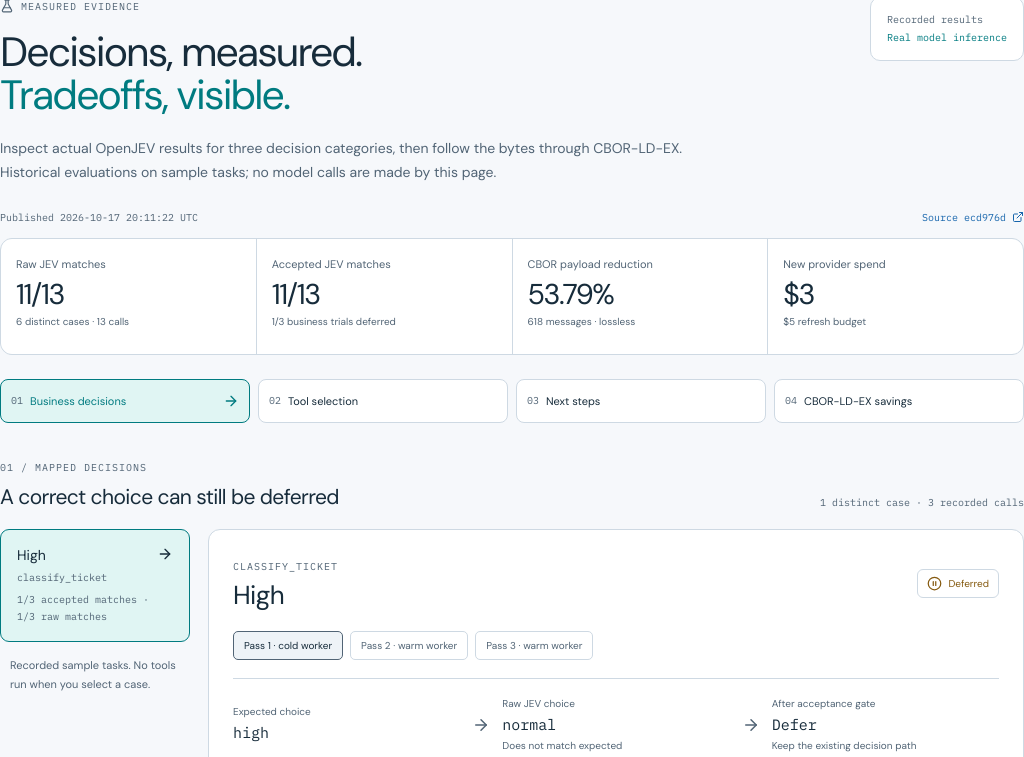
Scenario: measured benchmark workspace › derives narration from a refreshed valid report with changed outcomes and measurements
Expected: the navigation bar named "Benchmark categories" is shown, [0,379,1023,423]
Expected: the text "6 distinct cases · 13 calls" is shown, [16,315,129,328]
Click the button "Pass 2 · warm worker".
click(409, 646)  # box [350,631,468,660]
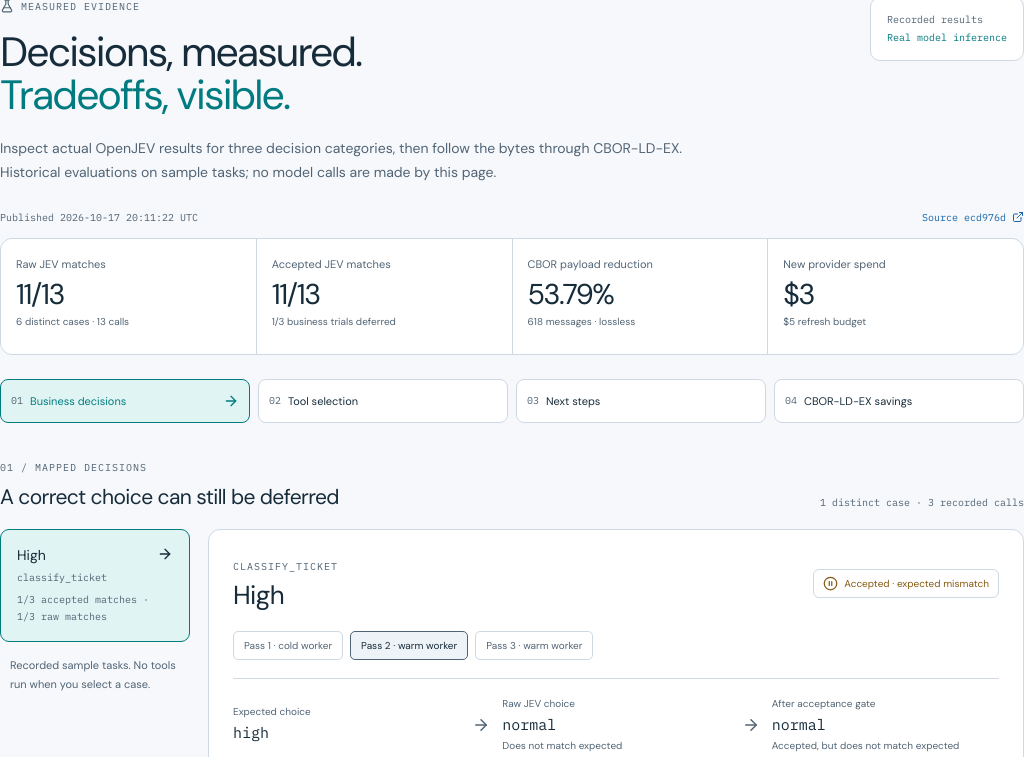
Expected: the text "1/3 accepted matches · 1/3 raw matches" is shown, [17,591,151,625]
Expected: the text "Accepted · expected mismatch" is shown, [813,569,999,598]
Click the button "04 CBOR-LD-EX savings".
click(899, 401)  # box [774,379,1023,423]
(page scrolled)
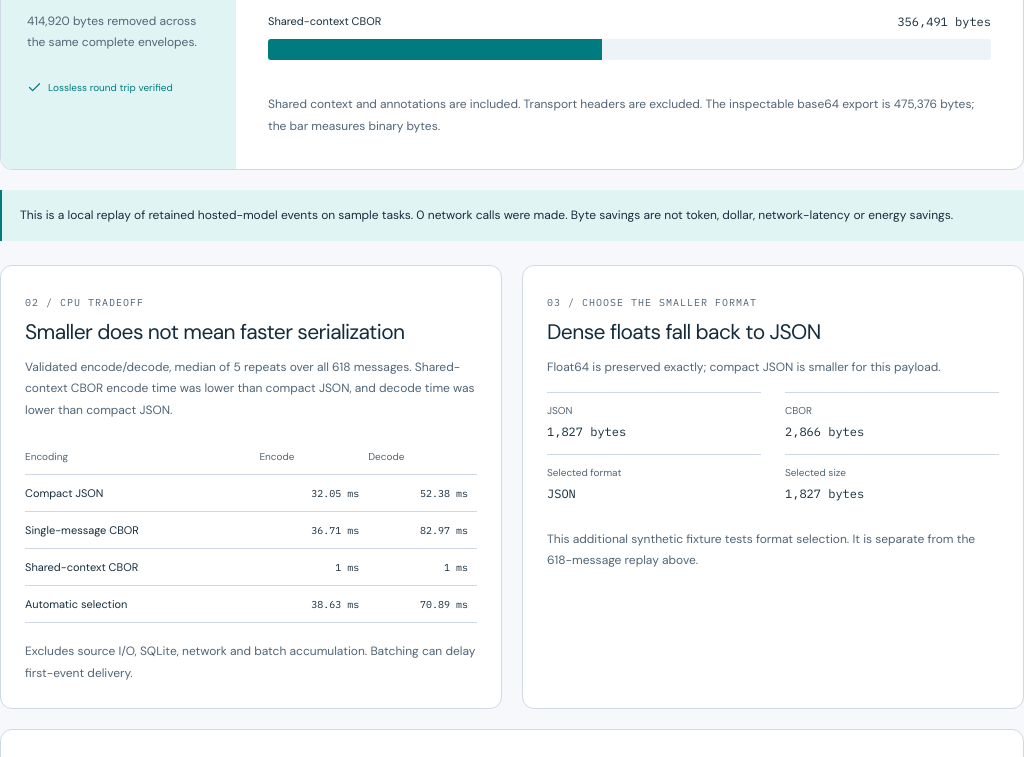
Expected: the text "Shared-context CBOR encode time was lower than compact JSON, and decode time was lower than compact JSON" is shown, [25,356,477,421]
